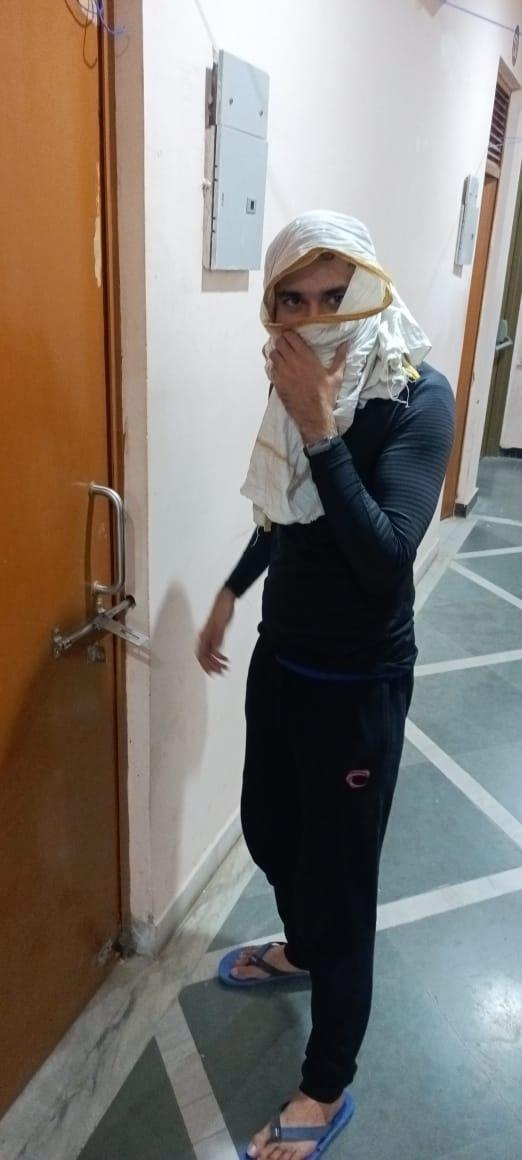suspicion: (143, 197, 480, 1160)
